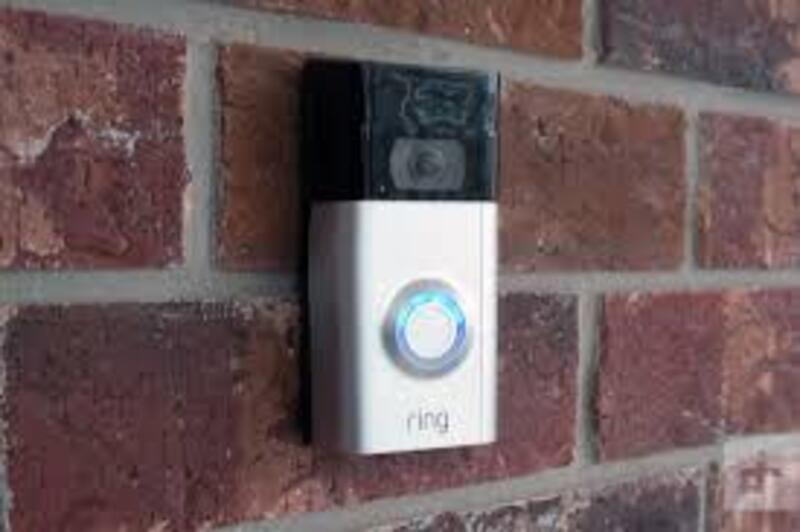doorbell: (293, 46, 515, 466)
